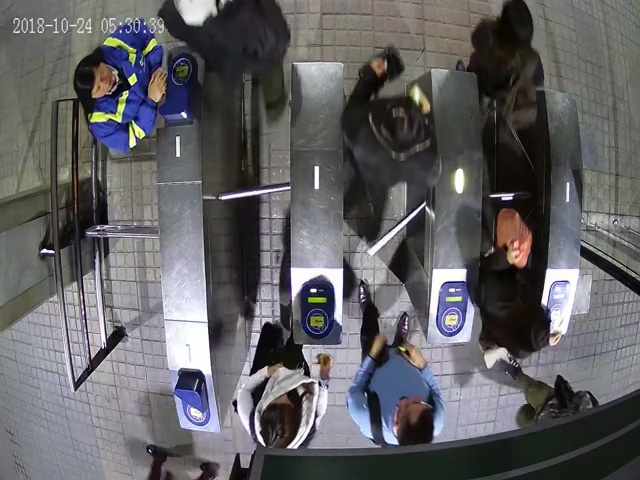Chaleco_azul: (74, 19, 168, 152)
